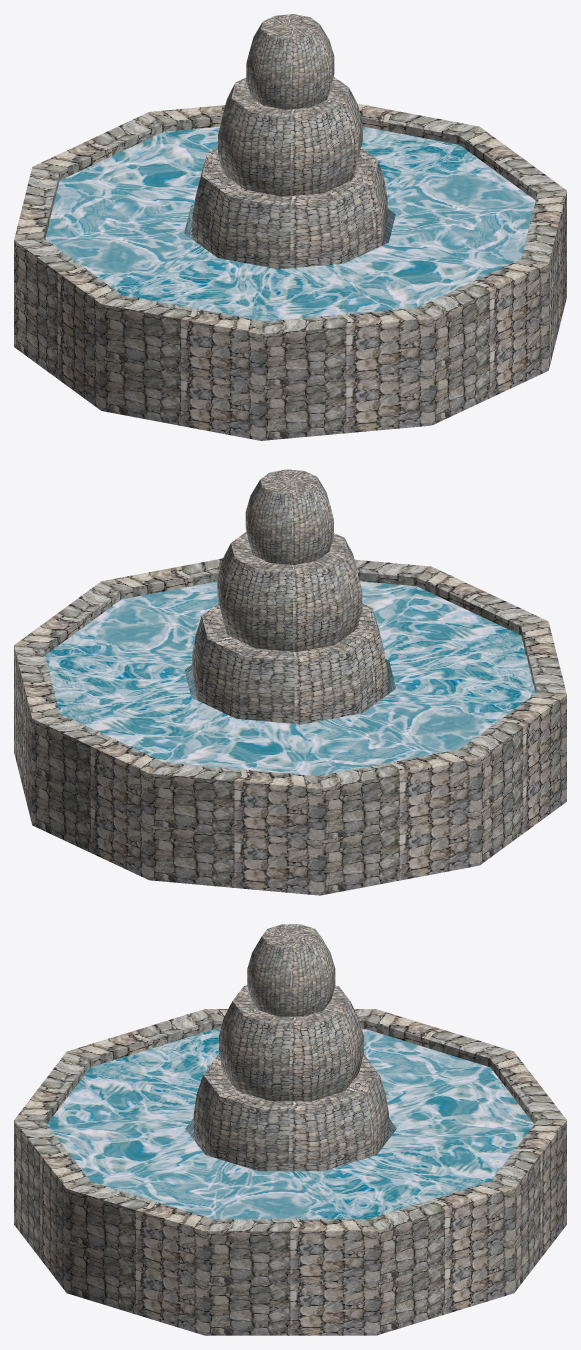
Rendered from brunnen.DAE.
3 views of the same model, one above another, from view 1: azimuth 30°, elevation 25°; view 2: azimuth 150°, elevation 25°; view 3: azimuth 270°, elevation 25° (orthographic). The views are drawn at different scales.
Parts seen in each view (by area): view 1: Tube005, Wasser, Tube001, Tube002, Tube003, Tube004; view 2: Tube005, Wasser, Tube001, Tube002, Tube003, Tube004; view 3: Tube005, Wasser, Tube001, Tube002, Tube003, Tube004.
Boxes of the visible parts, <box> form: Tube005: <box>14,103,566,388</box>; Wasser: <box>45,126,535,321</box>; Tube001: <box>14,245,566,440</box>; Tube002: <box>192,148,387,269</box>; Tube003: <box>218,76,362,196</box>; Tube004: <box>246,14,334,109</box>; Tube005: <box>14,558,566,843</box>; Wasser: <box>45,581,535,776</box>; Tube001: <box>14,698,566,895</box>; Tube002: <box>192,603,387,724</box>; Tube003: <box>217,531,362,651</box>; Tube004: <box>245,469,333,564</box>; Tube005: <box>14,1009,566,1284</box>; Wasser: <box>47,1029,533,1219</box>; Tube001: <box>14,1172,566,1335</box>; Tube002: <box>193,1054,388,1171</box>; Tube003: <box>219,985,363,1101</box>; Tube004: <box>247,924,335,1016</box>.
Size of the model in its own units: 89.4 by 94 by 54.14.
